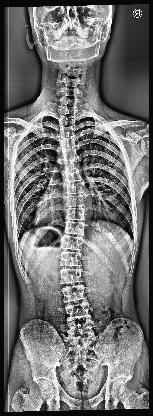Vertebrae: (54, 269, 88, 285), (54, 252, 88, 266), (63, 304, 92, 320), (57, 236, 89, 250), (62, 287, 90, 301), (60, 222, 90, 234), (63, 170, 89, 182), (55, 126, 81, 138), (62, 208, 90, 219), (62, 183, 88, 193), (59, 159, 85, 169), (59, 148, 84, 158), (64, 195, 88, 205), (55, 115, 79, 125), (56, 138, 82, 146), (56, 107, 79, 113)
